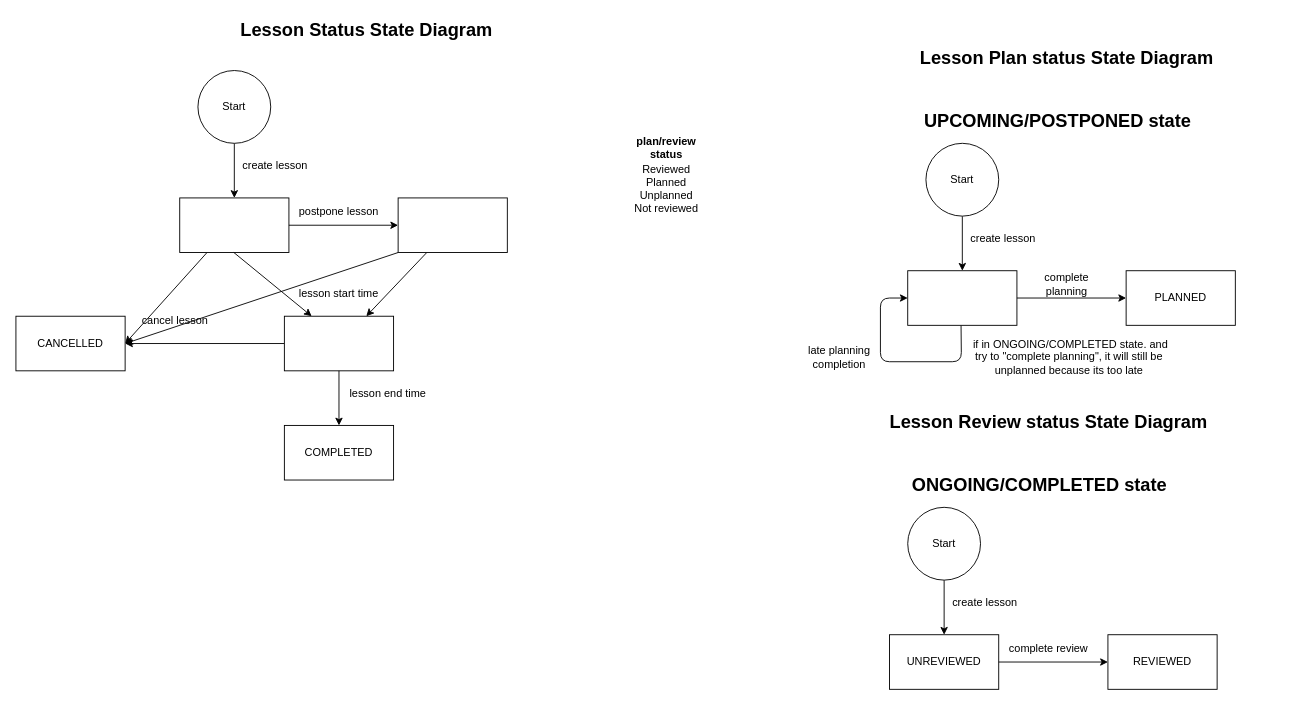
Image size: 1306x705. Some labels were removed from this diagram. The shapes that lost their labels are listed below. From the top down, each one's centre as x and y in pixels, then its label:
At point 234,225: "UPCOMING".
At point 452,225: "POSTPONED".
At point 962,297: "UNPLANNED".
At point 338,343: "ONGOING".
